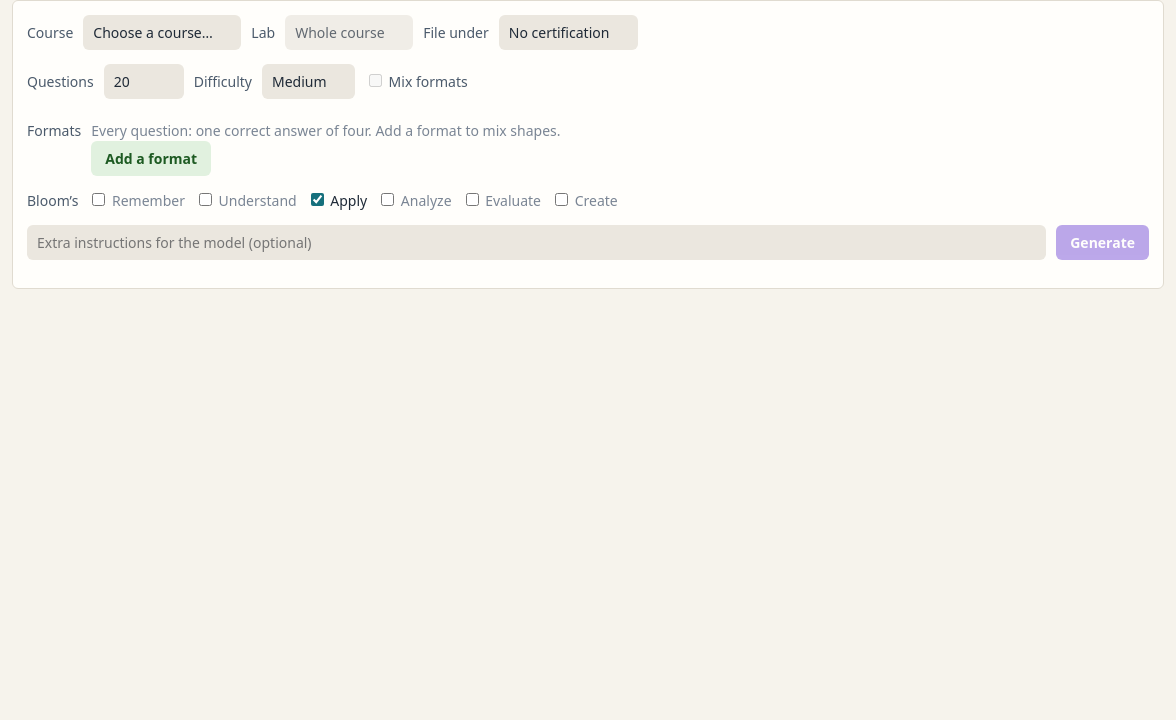
Test: the job › polls until it finishes, then shows the results
Select "Demo Course" in the dropdown labelled "Course" at (162, 32), box [83,15,241,50]
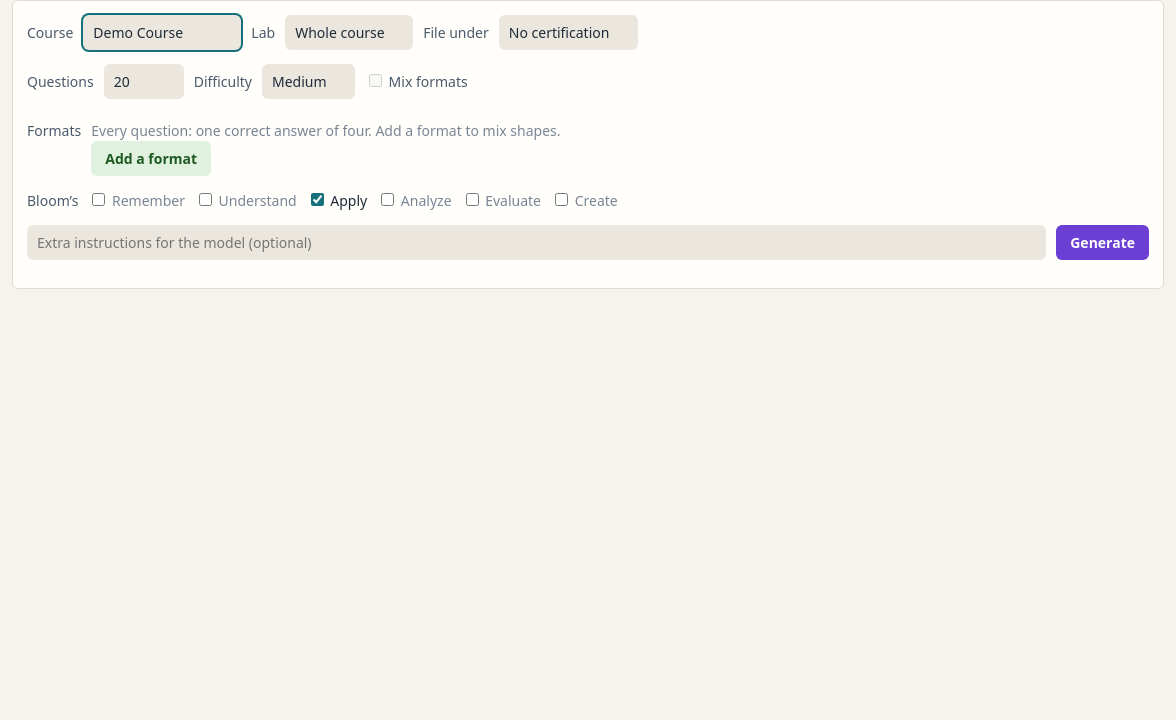
Click the button "Generate" at (1103, 242), box [1056,225,1149,260]
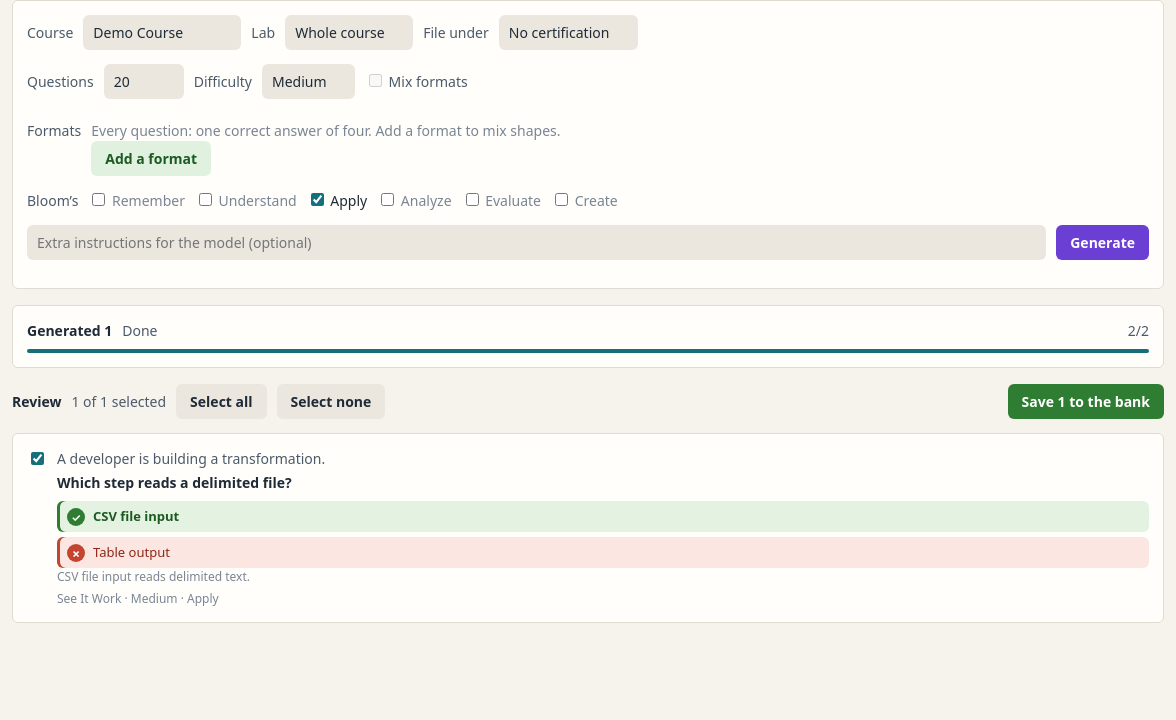
Result: the text "Generated 1" is shown at [27,320,112,341]
Result: the text "Which step reads a delimited file?" is shown at [57,473,292,492]
